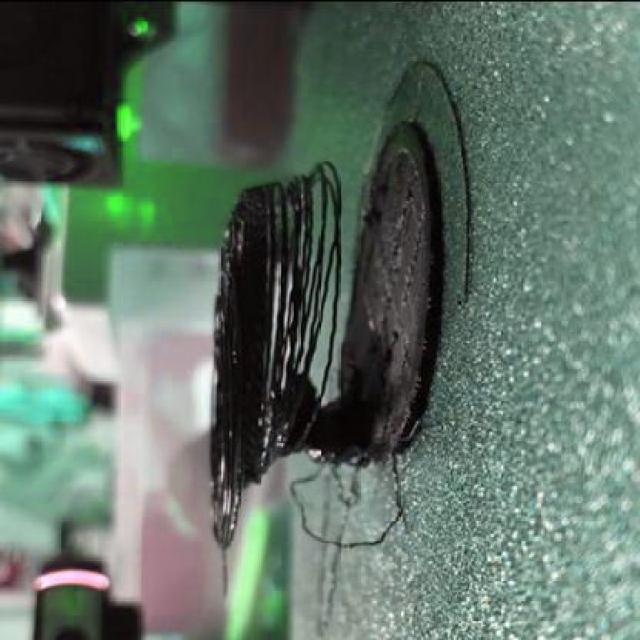Spaghetti: (267, 158, 339, 451), (284, 452, 402, 548), (218, 548, 231, 600)
